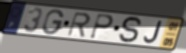3: (23, 7, 43, 34)
G: (41, 9, 65, 36)
J: (143, 20, 163, 44)
P: (88, 13, 115, 41)
R: (66, 12, 92, 39)
S: (118, 16, 144, 45)
